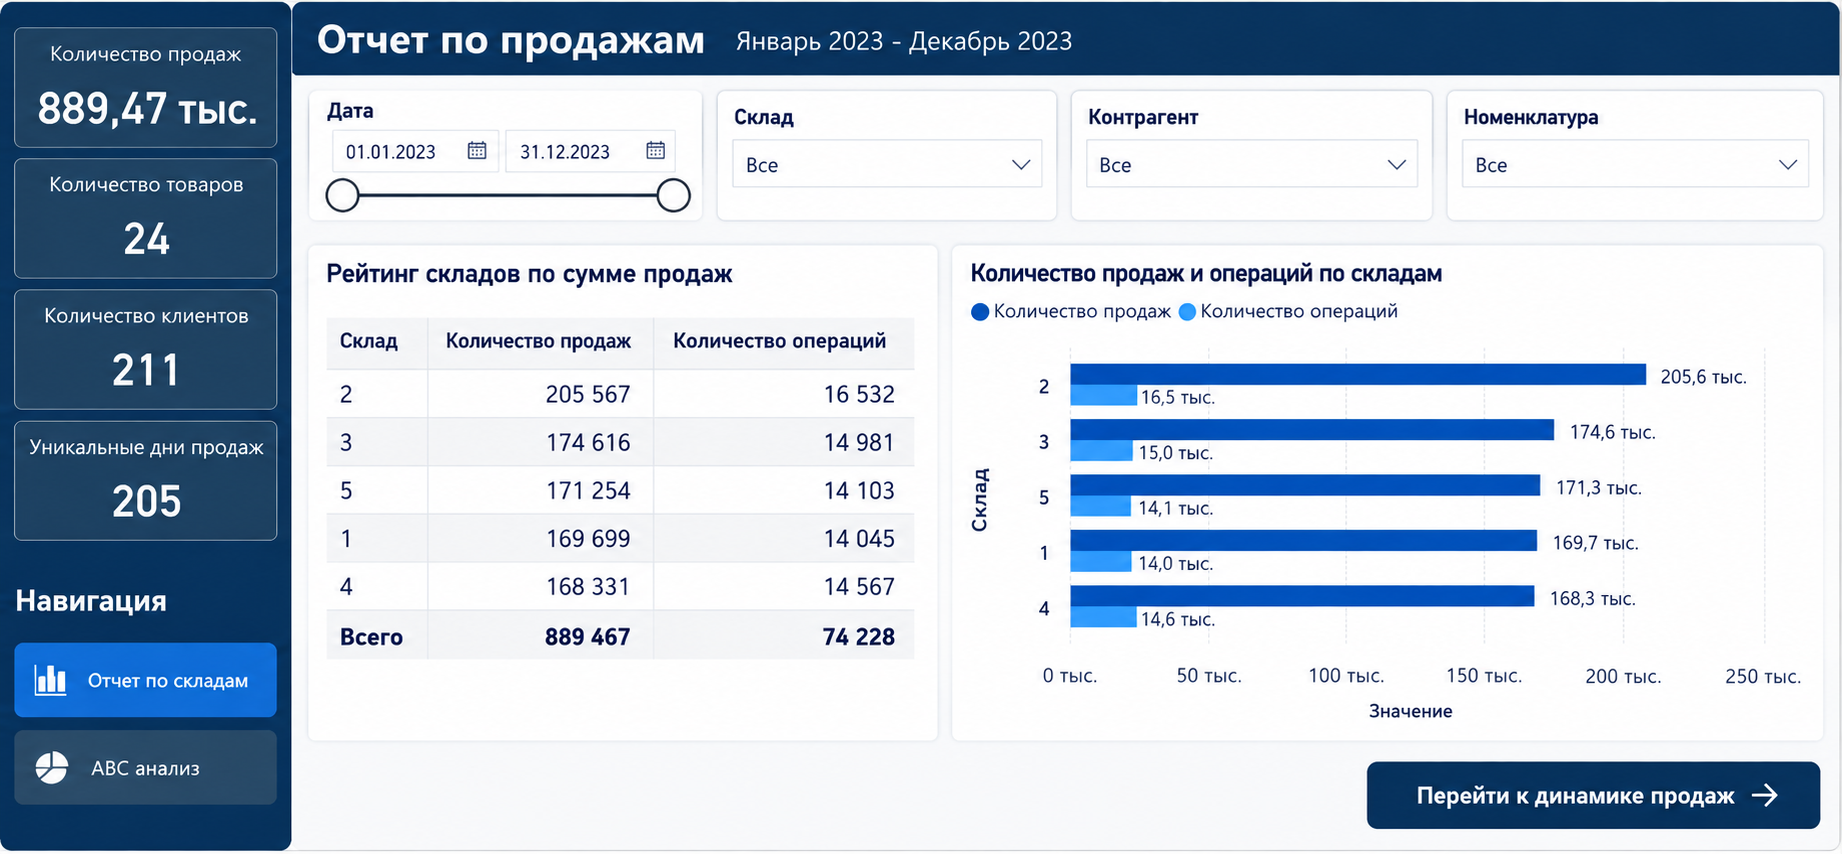

Layout of this report page (visuals, bound fields, positions):
{"tool":"powerbi","page":{"name":"Отчет по складам","canvas":[1280,720],"ordinal":0},"visuals":[{"type":"shape","box":[0,0,286.9,719.8],"z":0},{"type":"slicer","fields":{"Values":["data.Дата"]},"box":[1039.1,6.4,233.6,100.9],"z":1000},{"type":"slicer","fields":{"Values":["data.Контрагент"]},"box":[798.2,6.4,240.9,100.9],"z":2000},{"type":"slicer","fields":{"Values":["data.Номенклатура"]},"box":[556.4,6.4,241.8,100.9],"z":3000},{"type":"slicer","fields":{"Values":["data.Склад"]},"box":[298.2,119.1,974.5,65.5],"z":4000},{"type":"card","title":"Количество продаж","fields":{"Values":["Sum(data.Количество)"]},"box":[0,19.5,287.3,87.8],"z":5000},{"type":"card","title":"Количество товаров","fields":{"Values":["Count(data.Номенклатура)"]},"box":[0,113.5,287.3,87.8],"z":6000},{"type":"card","title":"Количество клиентов","fields":{"Values":["Count(data.Контрагент)"]},"box":[0,207.5,287.3,87.8],"z":7000},{"type":"card","title":"Уникальные дни продаж","fields":{"Values":["Count(data.Дата)"]},"box":[0,301.5,287.3,86.9],"z":8000},{"type":"tableEx","title":"Количество продаж и сделок по складам","fields":{"Values":["data.Склад","Sum(data.Количество)","CountNonNull(data.Количество)"]},"box":[406.4,200.9,866.4,180.9],"z":9000},{"type":"clusteredBarChart","title":"Количество продаж и сделок по складам","fields":{"Category":["data.Склад"],"Y":["Sum(data.Количество)","CountNonNull(data.Количество)"]},"box":[406.4,389.1,866.4,320.9],"z":10000},{"type":"textbox","box":[298.2,6.4,258.2,100.9],"z":11000},{"type":"shape","box":[0,13.3,287.3,12.4],"z":12000},{"type":"shape","box":[0,107.3,287.3,11.5],"z":13000},{"type":"shape","box":[0,201.3,287.3,12.4],"z":14000},{"type":"shape","box":[0,295.3,287.3,12.4],"z":15000},{"type":"actionButton","box":[0,535,287,84],"z":16000},{"type":"actionButton","box":[0,619,287,84],"z":17000},{"type":"textbox","box":[0,481,287,54],"z":18000},{"type":"actionButton","box":[298.2,200.9,100,250],"z":19000},{"type":"actionButton","box":[298.2,460,100,250],"z":20000}]}

Visuals, with their boxes on the page's 1280x720 design canvas (x1, y1, x2, y2). These are canvas units, not pixel positions in the 1842x854 screenshot, which may show the page scaled, cropped or inside an application window:
shape: x1=0, y1=0, x2=287, y2=720
slicer - data.Дата: x1=1039, y1=6, x2=1273, y2=107
slicer - data.Контрагент: x1=798, y1=6, x2=1039, y2=107
slicer - data.Номенклатура: x1=556, y1=6, x2=798, y2=107
slicer - data.Склад: x1=298, y1=119, x2=1273, y2=185
"Количество продаж" card: x1=0, y1=20, x2=287, y2=107
"Количество товаров" card: x1=0, y1=114, x2=287, y2=201
"Количество клиентов" card: x1=0, y1=208, x2=287, y2=295
"Уникальные дни продаж" card: x1=0, y1=302, x2=287, y2=388
"Количество продаж и сделок по складам" tableEx: x1=406, y1=201, x2=1273, y2=382
"Количество продаж и сделок по складам" clusteredBarChart: x1=406, y1=389, x2=1273, y2=710
textbox: x1=298, y1=6, x2=556, y2=107
shape: x1=0, y1=13, x2=287, y2=26
shape: x1=0, y1=107, x2=287, y2=119
shape: x1=0, y1=201, x2=287, y2=214
shape: x1=0, y1=295, x2=287, y2=308
actionButton: x1=0, y1=535, x2=287, y2=619
actionButton: x1=0, y1=619, x2=287, y2=703
textbox: x1=0, y1=481, x2=287, y2=535
actionButton: x1=298, y1=201, x2=398, y2=451
actionButton: x1=298, y1=460, x2=398, y2=710
